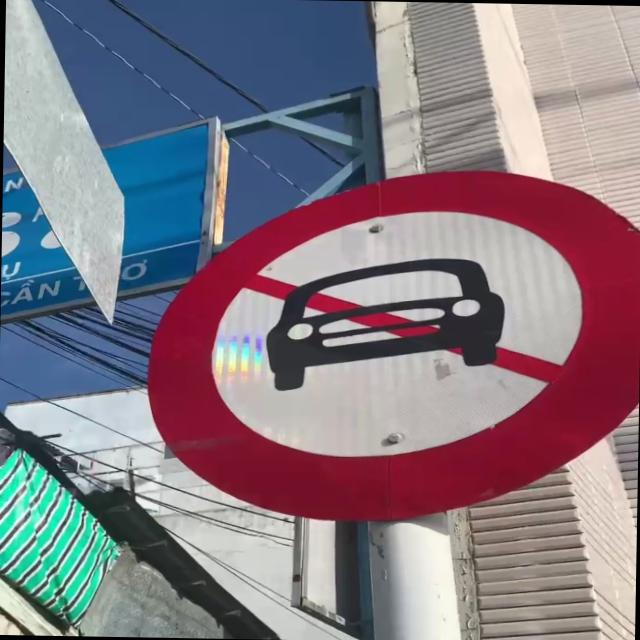Cam_O_To: (144, 166, 640, 522)
